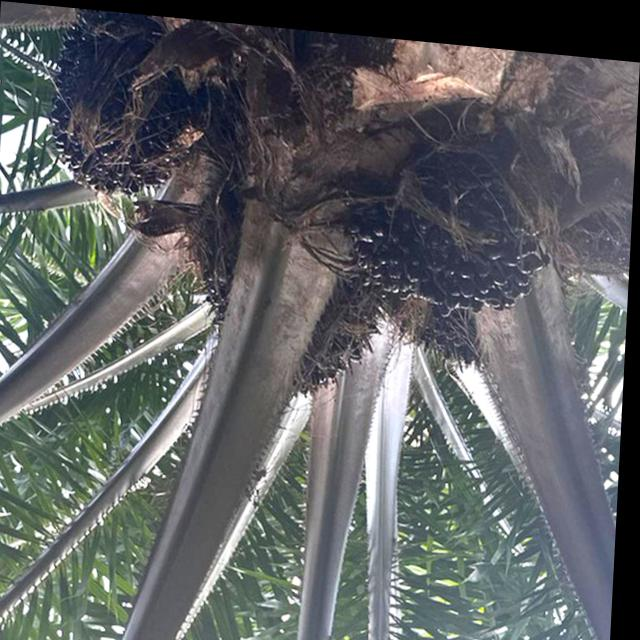unripe: (353, 108, 566, 316), (189, 193, 396, 402), (48, 4, 210, 205)
